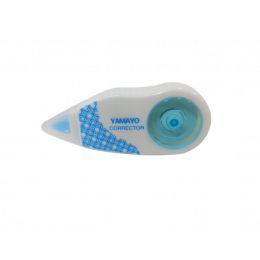Correction_fluid: (38, 79, 216, 159)
